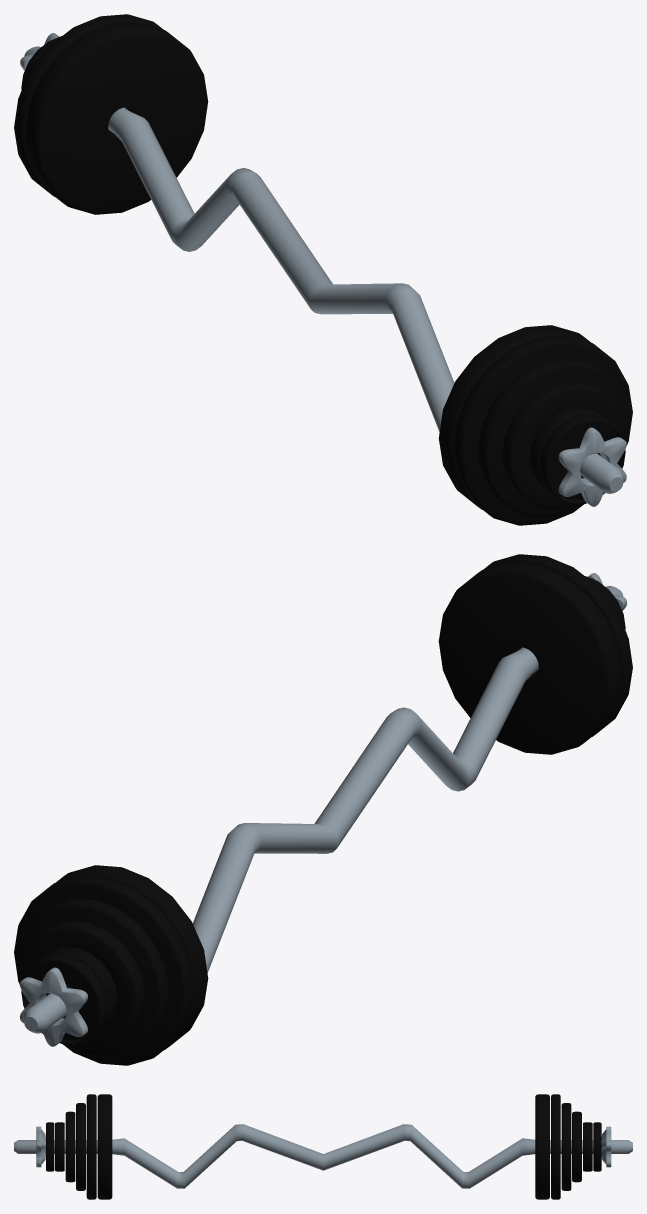
File: Curl_Bar1(FBX).FBX
The picture shows the model from 3 angles, top to bottom: view 1: azimuth 30°, elevation 25°; view 2: azimuth 150°, elevation 25°; view 3: azimuth 270°, elevation 25°; orthographic projection. The views are drawn at different scales.
Visible parts, largest first — view 1: Cylinder012, Cylinder001, Cylinder022, Cylinder024, Cylinder019, Cylinder023, Cylinder021, Cylinder011, Star003, Cylinder020; view 2: Cylinder023, Cylinder001, Cylinder011, Cylinder002, Cylinder004, Cylinder012, Cylinder006, Cylinder022, Star001, Cylinder005; view 3: Cylinder001, Cylinder023, Cylinder012, Cylinder022, Cylinder011, Cylinder002, Cylinder024, Cylinder019, Cylinder004, Cylinder005, Cylinder020, Cylinder006 (+3 smaller).
Part boxes in pixels (x1,y1,x2,y2): Cylinder012: [24, 22, 208, 214]; Cylinder001: [24, 46, 624, 493]; Cylinder022: [453, 335, 632, 525]; Cylinder024: [477, 358, 628, 517]; Cylinder019: [502, 381, 623, 509]; Cylinder023: [438, 325, 590, 509]; Cylinder021: [539, 414, 625, 504]; Cylinder011: [14, 14, 162, 196]; Star003: [558, 427, 626, 506]; Cylinder020: [529, 407, 602, 494]; Cylinder023: [438, 562, 622, 754]; Cylinder001: [23, 586, 623, 1033]; Cylinder011: [14, 875, 193, 1065]; Cylinder002: [18, 898, 169, 1057]; Cylinder004: [23, 921, 144, 1049]; Cylinder012: [56, 865, 208, 1049]; Cylinder006: [21, 954, 107, 1044]; Cylinder022: [484, 554, 632, 736]; Star001: [19, 967, 87, 1046]; Cylinder005: [44, 947, 117, 1034]; Cylinder001: [14, 1124, 632, 1188]; Cylinder023: [97, 1094, 112, 1199]; Cylinder012: [535, 1094, 549, 1199]; Cylinder022: [86, 1094, 96, 1199]; Cylinder011: [551, 1094, 560, 1199]; Cylinder002: [561, 1103, 571, 1190]; Cylinder024: [76, 1103, 85, 1190]; Cylinder019: [65, 1111, 75, 1182]; Cylinder004: [572, 1111, 581, 1182]; Cylinder005: [583, 1122, 592, 1171]; Cylinder020: [55, 1122, 64, 1171]; Cylinder006: [593, 1122, 601, 1171].
Bounding box in the file's own units: 10.92 × 10.92 × 63.5.
